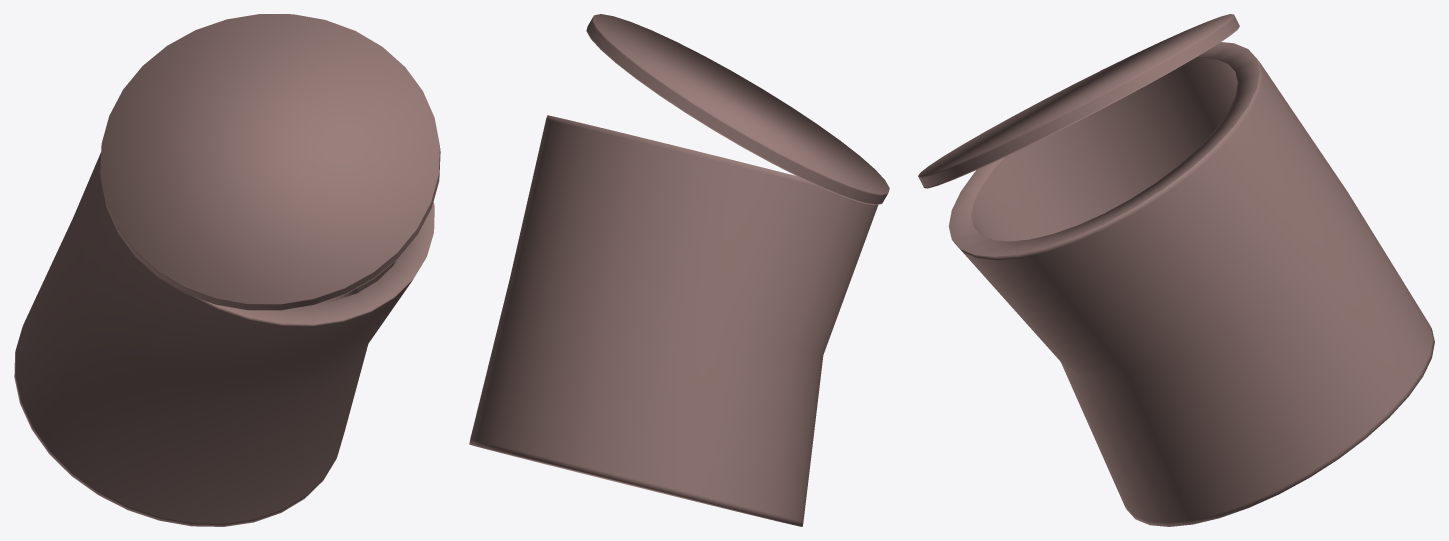
Rendered from CAN_crab.glb.
The picture shows the model from 3 angles, left to right: view 1: azimuth 30°, elevation 25°; view 2: azimuth 150°, elevation 25°; view 3: azimuth 270°, elevation 25°; orthographic projection. The views are drawn at different scales.
Parts seen in each view (by area): view 1: CAN; view 2: CAN; view 3: CAN.
Boxes of the visible parts, x1,y1,x2,y2 form: CAN: (14, 14, 440, 526); CAN: (469, 14, 889, 526); CAN: (918, 14, 1434, 526).
Size of the model in its own units: 4.52 by 6.7 by 6.44.
